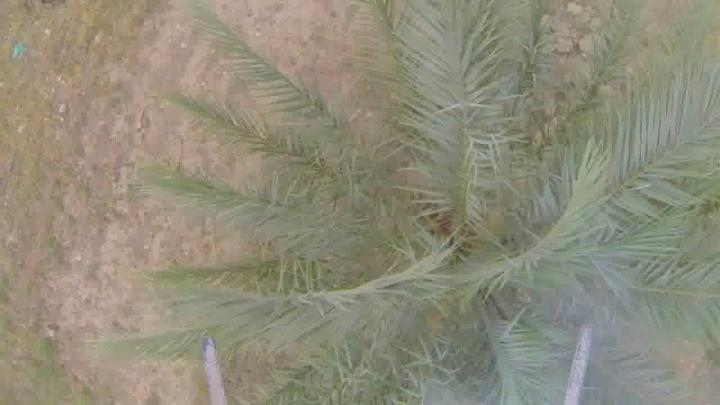Date-Palm-Crown: (270, 76, 692, 382)
